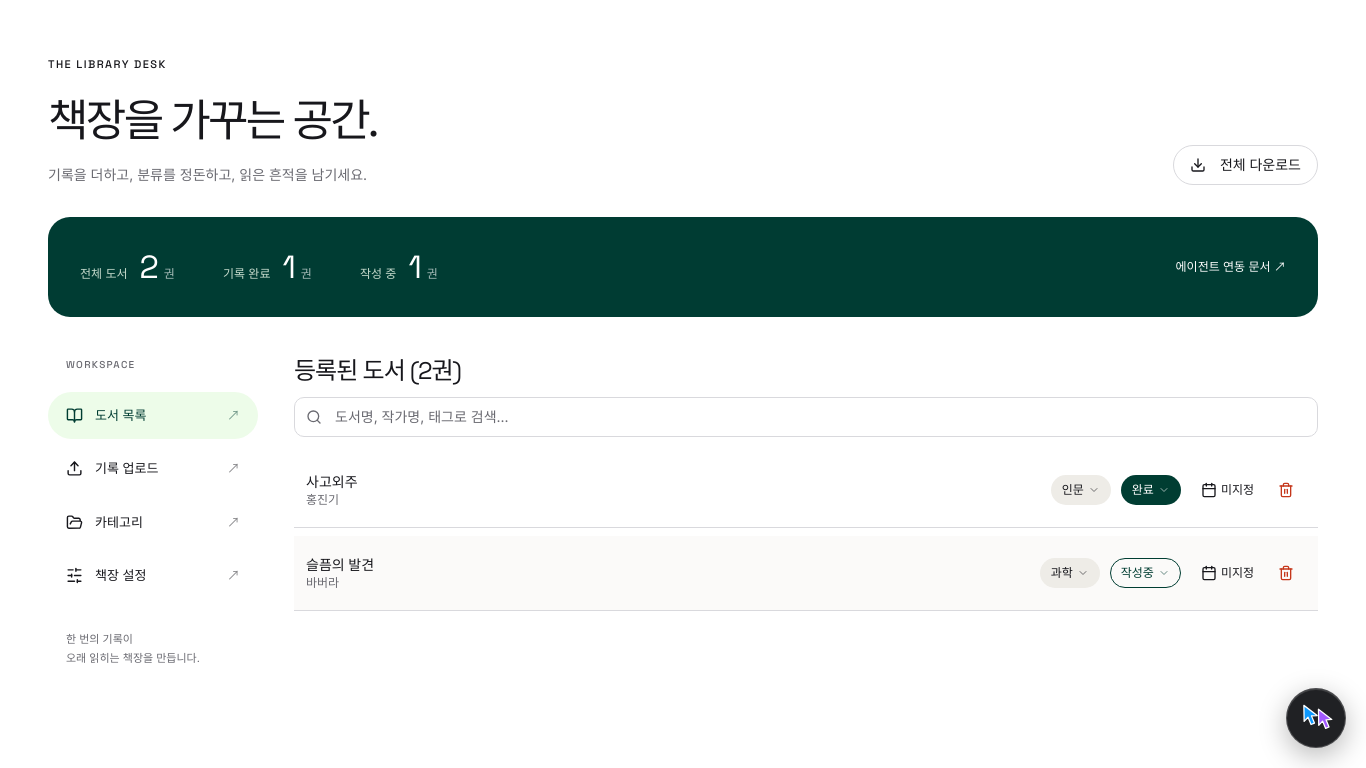
it: Library redesign workflows › navigates between all management sections
Expected: the heading "등록된 도서 (2권)" is shown, [294,354,461,386]
Click the button "기록 업로드 ↗".
click(153, 469)  # box [48,445,258,492]
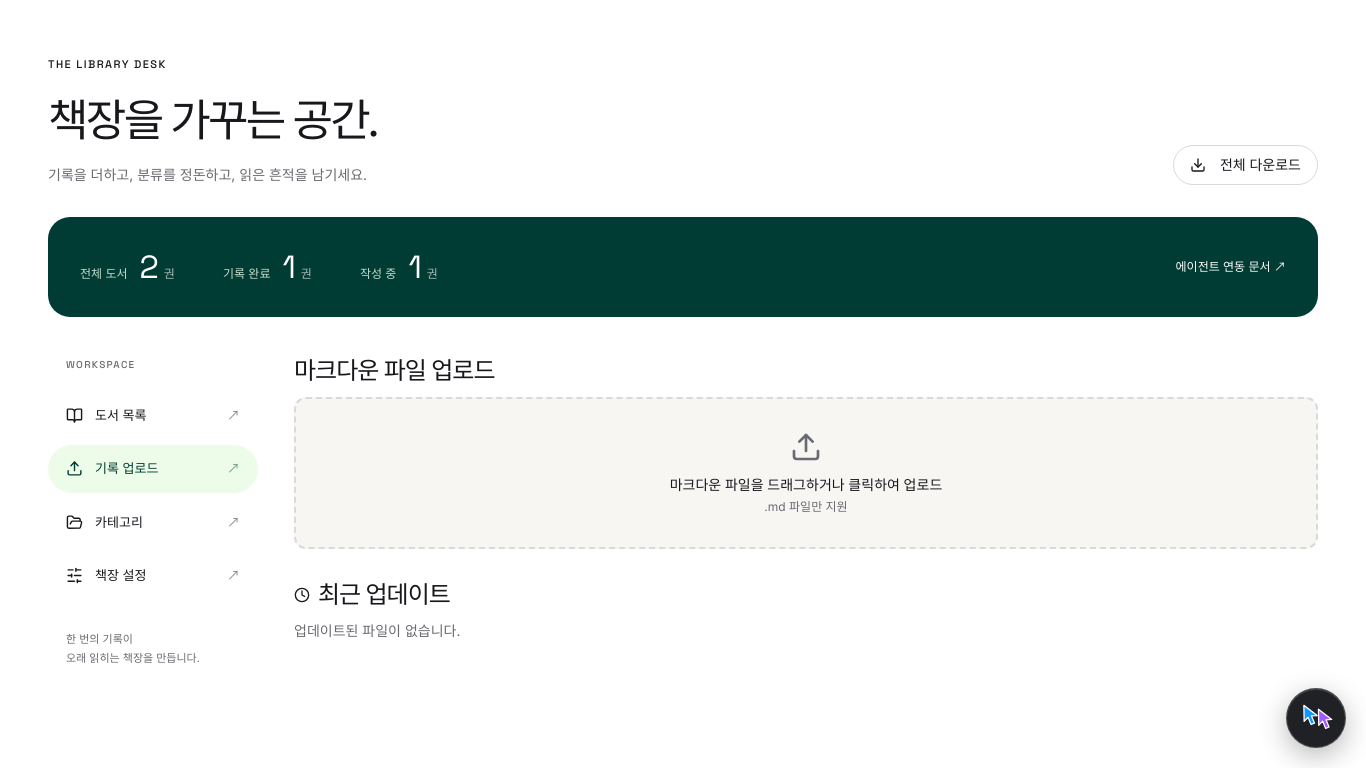
Result: the heading "마크다운 파일 업로드" is shown at [294,354,494,386]
Result: the heading "등록된 도서 (2권)" is gone
Click the button "카테고리 ↗".
click(153, 522)  # box [48,498,258,546]
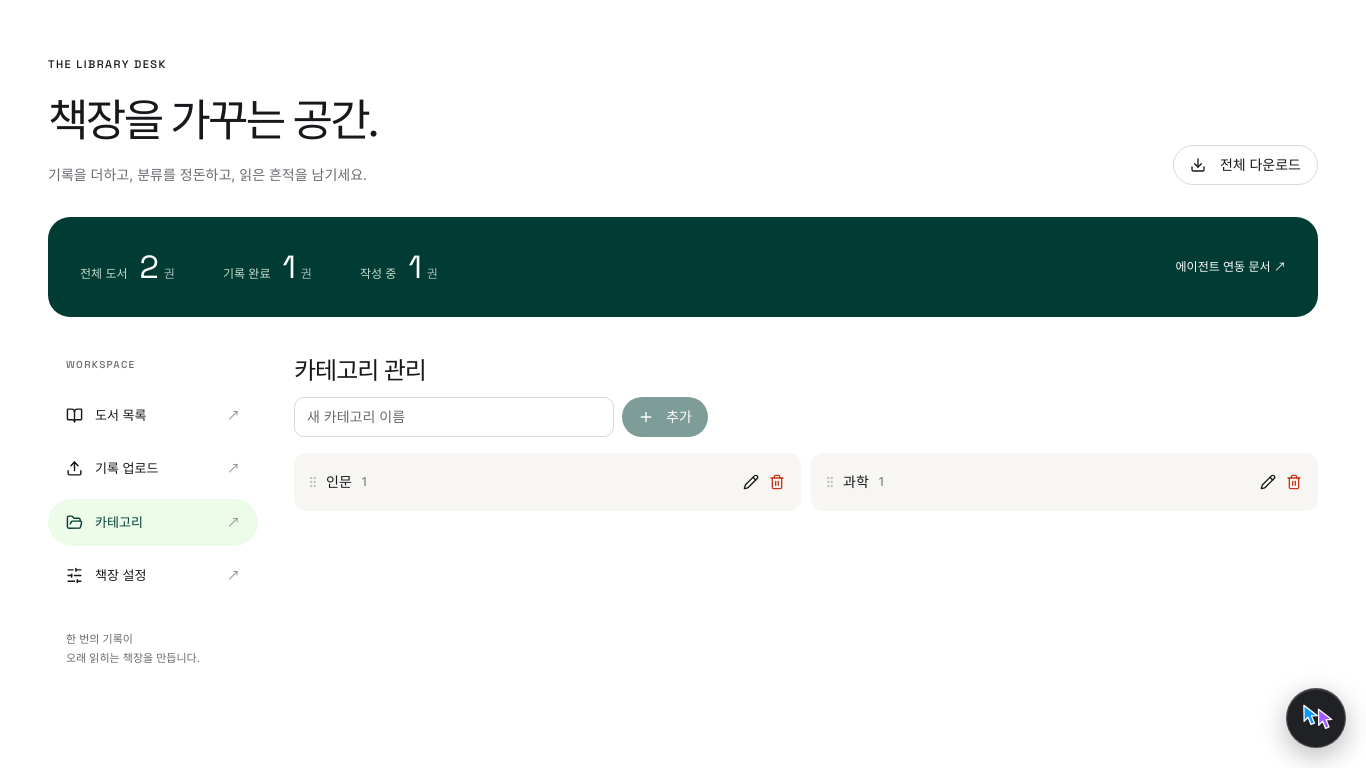
Result: the heading "카테고리 관리" is shown at [294,354,426,386]
Click the button "책장 설정 ↗".
click(153, 576)  # box [48,552,258,600]
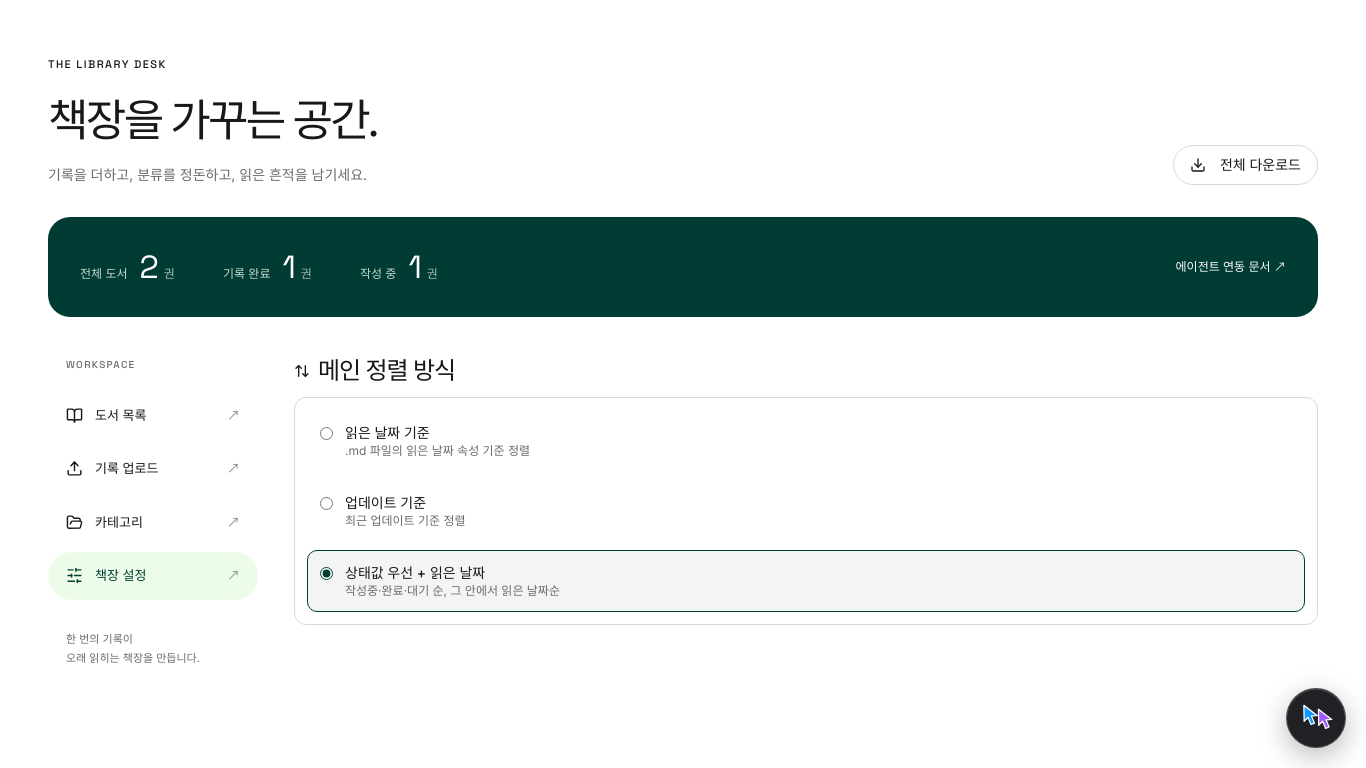
Result: the heading "메인 정렬 방식" is shown at [294,354,455,386]
